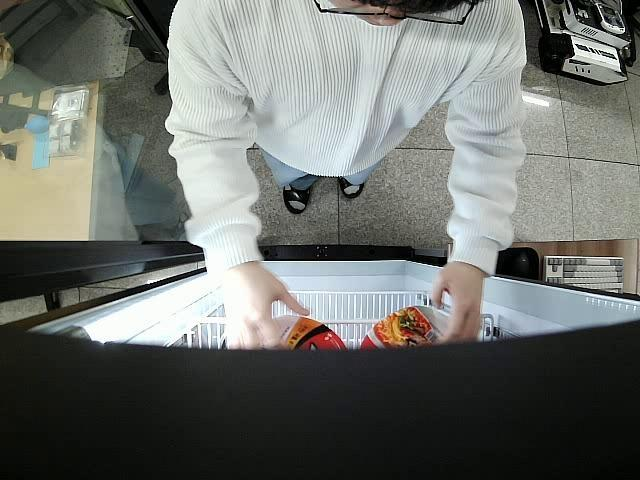10_wangTtukkeong: (360, 305, 468, 347), (273, 315, 348, 351)
